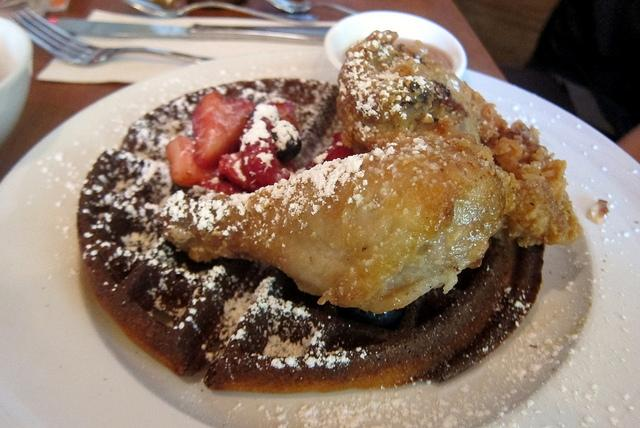strawberry: (192, 90, 255, 168), (218, 138, 290, 192), (166, 135, 218, 188), (306, 132, 354, 170), (266, 101, 300, 135), (198, 176, 250, 195)
